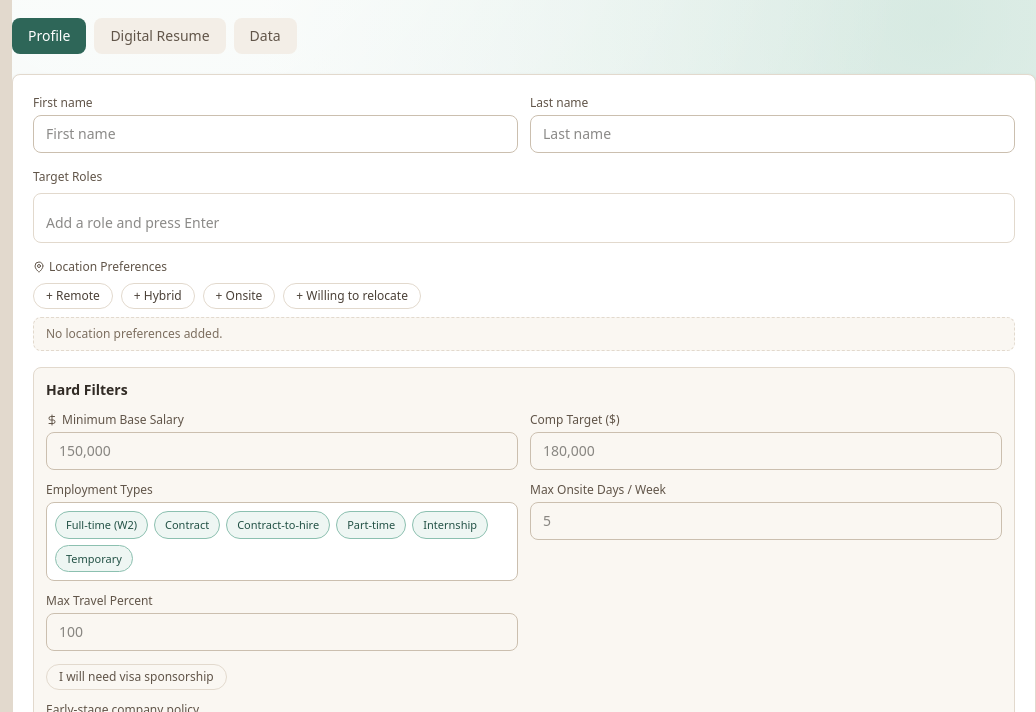
it: SettingsPage terminology guard › enforces location fields by preference type and keeps preferred benefits advanced
Click the button "+ Remote": (73, 296) [33,283,113,309]
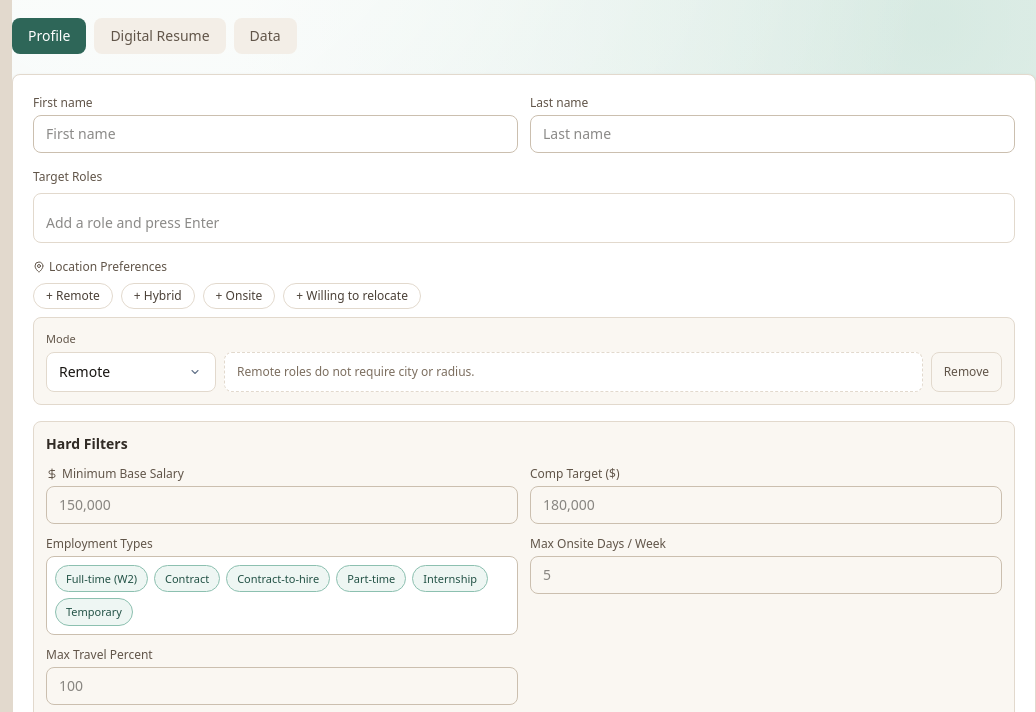
Check: the text "Remote roles do not require city or radius." is shown, box [224,352,923,392]
Click the button "+ Hybrid": (158, 296) [121,283,195,309]
(page scrolled)
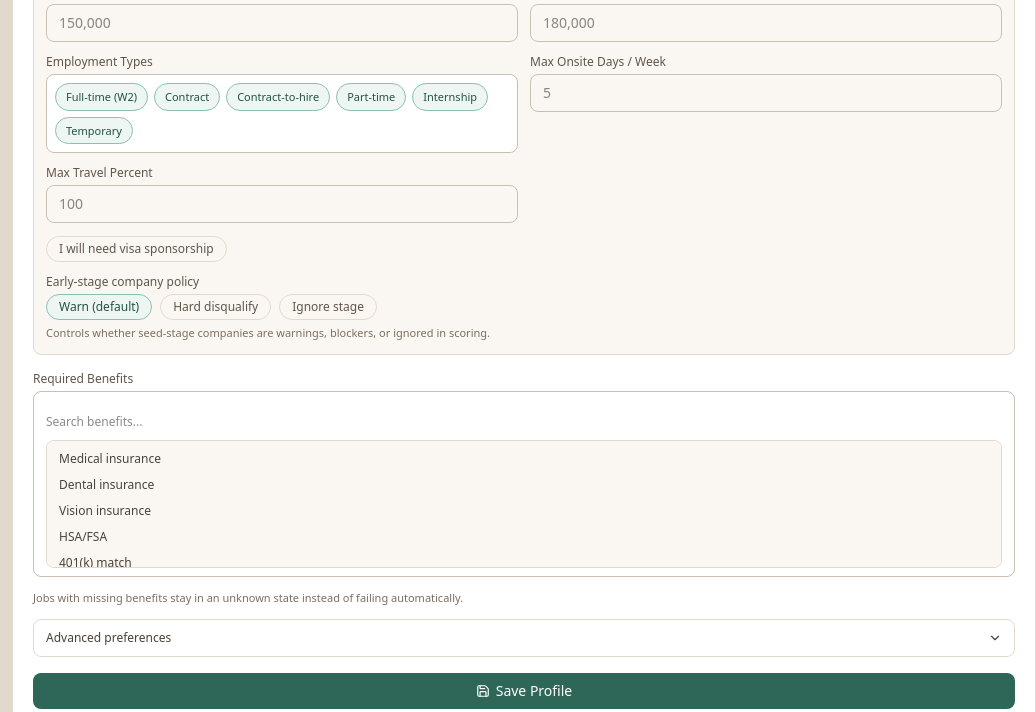
Check: the text "Preferred Benefits" is not shown
Click the button "Advanced preferences": (109, 637) [34,620,1014,656]
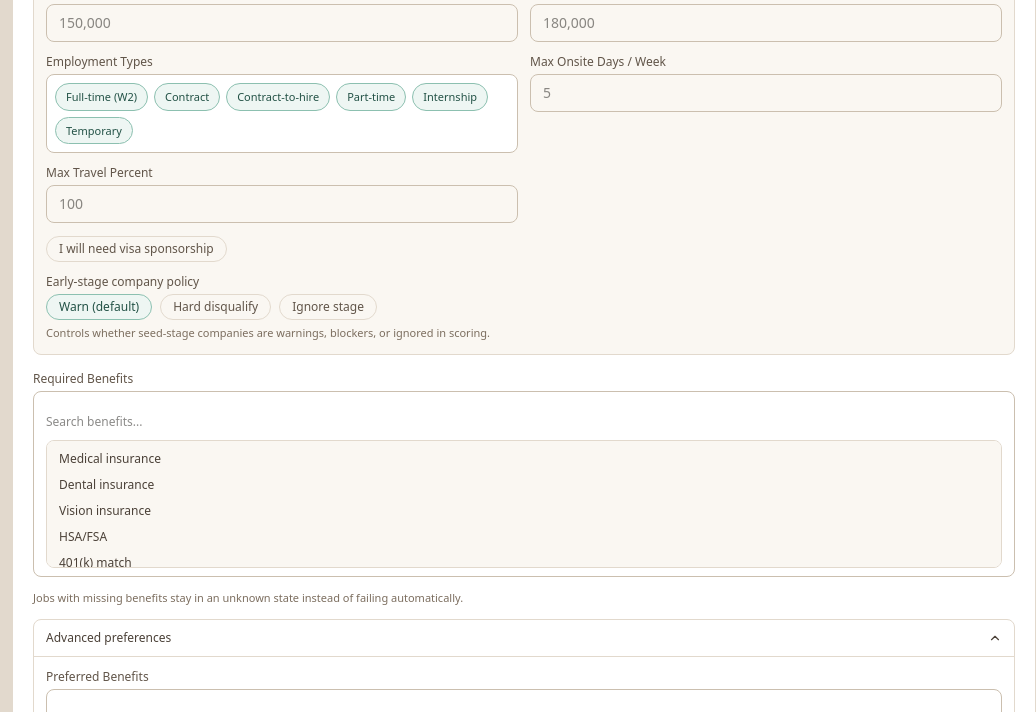
Check: the text "Preferred Benefits" is shown, box [46,668,149,685]
